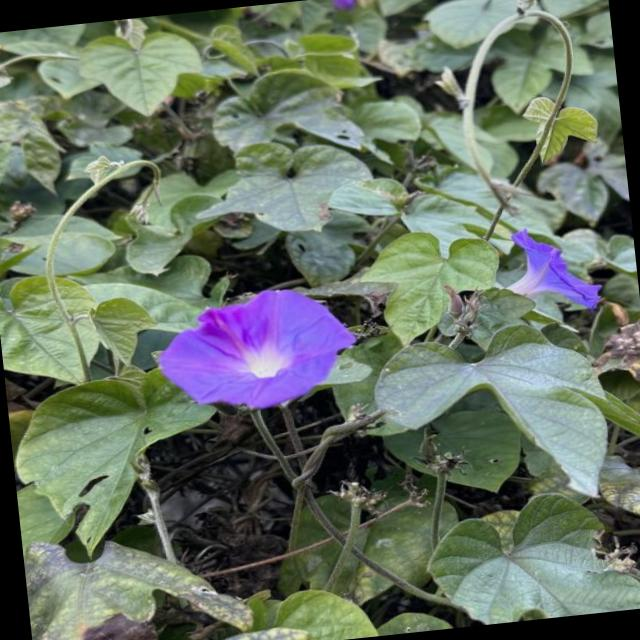ipomoea: (146, 278, 364, 422), (493, 218, 607, 321)
